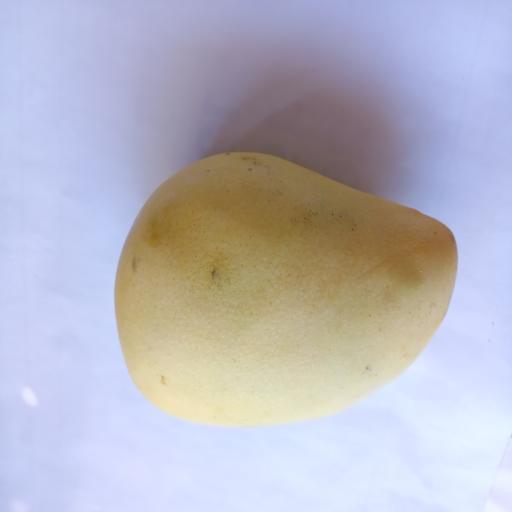mango-ripe: (87, 147, 485, 442)
